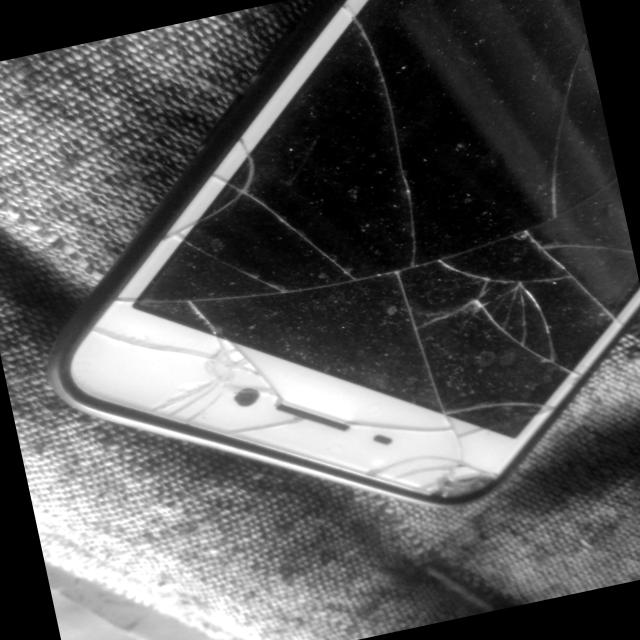Crack: (70, 184, 358, 471), (375, 192, 621, 457)
